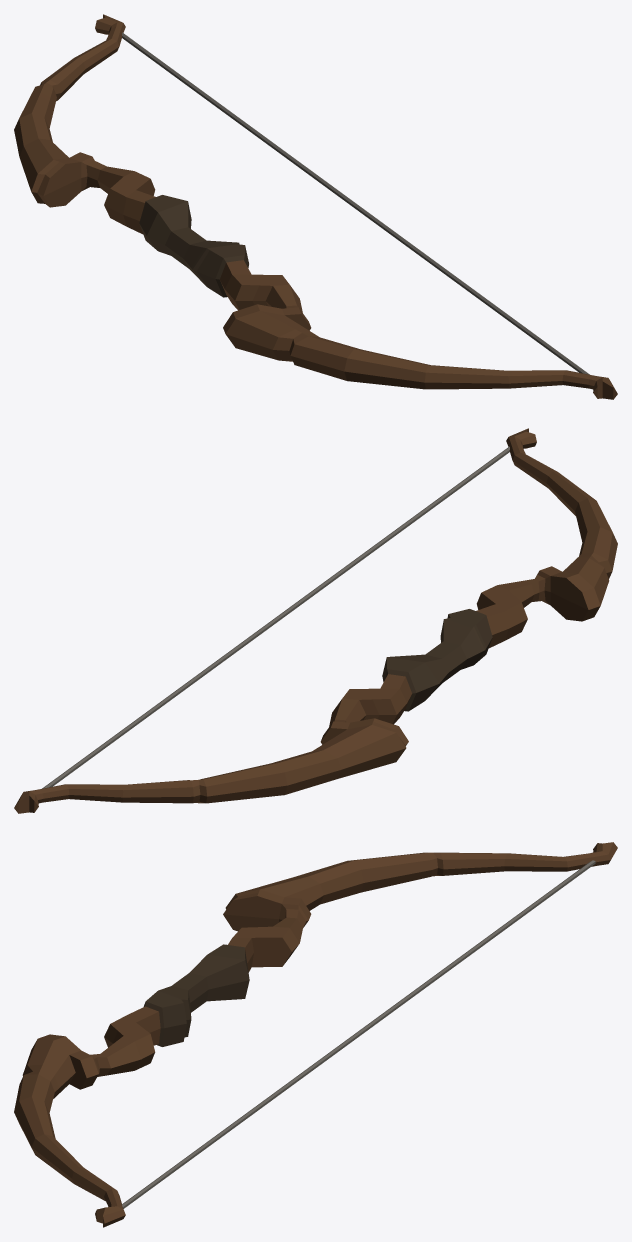
Rendered from shortbow.glb.
3 views of the same model, one above another, from view 1: azimuth 30°, elevation 25°; view 2: azimuth 150°, elevation 25°; view 3: azimuth 330°, elevation 25° (orthographic).
Visible parts, largest first — view 1: m; view 2: m; view 3: m.
Part boxes in pixels (bbox=[...]): m: bbox=[14, 14, 617, 399]; m: bbox=[14, 428, 617, 813]; m: bbox=[14, 842, 617, 1227].
Size of the model in its own units: 0.135 by 0.0224 by 0.5.
